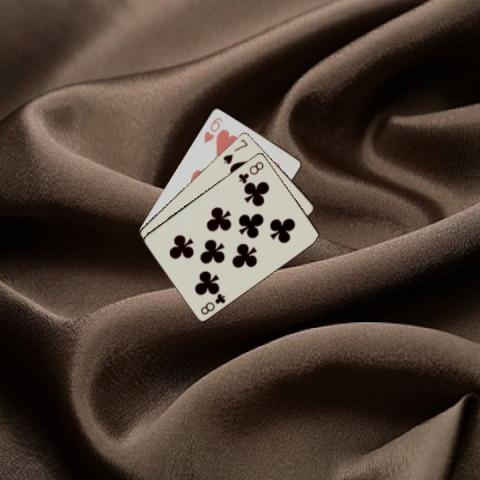6h: (201, 114, 224, 144)
7s: (220, 136, 249, 165)
8c: (236, 158, 266, 184), (198, 290, 228, 316)
